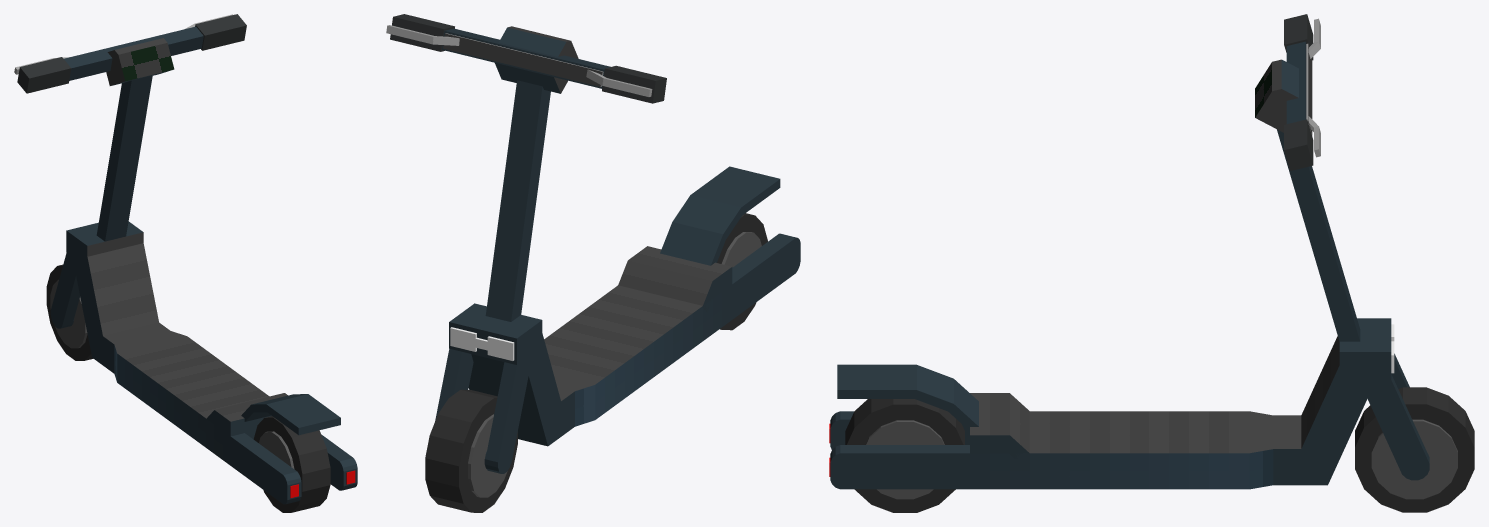
The model's file is scooter.fbx.
The picture shows the model from 3 angles, left to right: view 1: azimuth 30°, elevation 25°; view 2: azimuth 150°, elevation 25°; view 3: azimuth 270°, elevation 25°; orthographic projection. The views are drawn at different scales.
Parts seen in each view (by area): view 1: cube.004, cube.013, cube.015, cube.046, cube.016, cube.011, cube.024, cube.007, cube.014, cube.018, cube.019, cube.030 (+6 smaller); view 2: cube.004, cube.015, cube.013, cube.046, cube.014, cube.030, cube.012, cube.017, cube.011, cube.009, cube.008, cube.010 (+17 smaller); view 3: cube.004, cube.031, cube.013, cube.015, cube.007, cube.029, cube.011, cube.014, cube.008, cube.024, cube.010, cube.019 (+20 smaller).
Part boxes in pixels (x1,y1,x2,y2): cube.004: (117, 336, 269, 465); cube.013: (72, 243, 158, 357); cube.015: (96, 75, 152, 241); cube.046: (230, 433, 296, 503); cube.016: (64, 26, 203, 80); cube.011: (266, 394, 340, 435); cube.024: (106, 43, 174, 85); cube.007: (92, 322, 179, 373); cube.014: (66, 221, 143, 267); cube.018: (17, 57, 71, 93); cube.019: (195, 14, 246, 50); cube.030: (51, 252, 79, 323); cube.004: (544, 285, 732, 419); cube.015: (485, 80, 550, 321); cube.013: (468, 333, 560, 446); cube.046: (732, 234, 795, 319); cube.014: (449, 303, 542, 364); cube.030: (486, 342, 534, 456); cube.012: (618, 260, 712, 312); cube.017: (443, 33, 603, 86); cube.011: (691, 166, 780, 214); cube.009: (660, 222, 725, 265); cube.008: (628, 246, 732, 298); cube.010: (672, 195, 742, 240); cube.004: (970, 411, 1249, 489); cube.031: (840, 445, 969, 489); cube.013: (1301, 336, 1376, 484); cube.015: (1277, 129, 1360, 341); cube.007: (1249, 415, 1327, 485); cube.029: (1360, 359, 1427, 469); cube.011: (837, 364, 916, 398); cube.014: (1339, 318, 1391, 379); cube.008: (970, 393, 1009, 453); cube.024: (1255, 62, 1288, 132); cube.010: (913, 365, 953, 411); cube.019: (1284, 119, 1313, 170).
Size of the model in its own units: 96.88 by 149 by 202.
3 materials, 3 textured.
